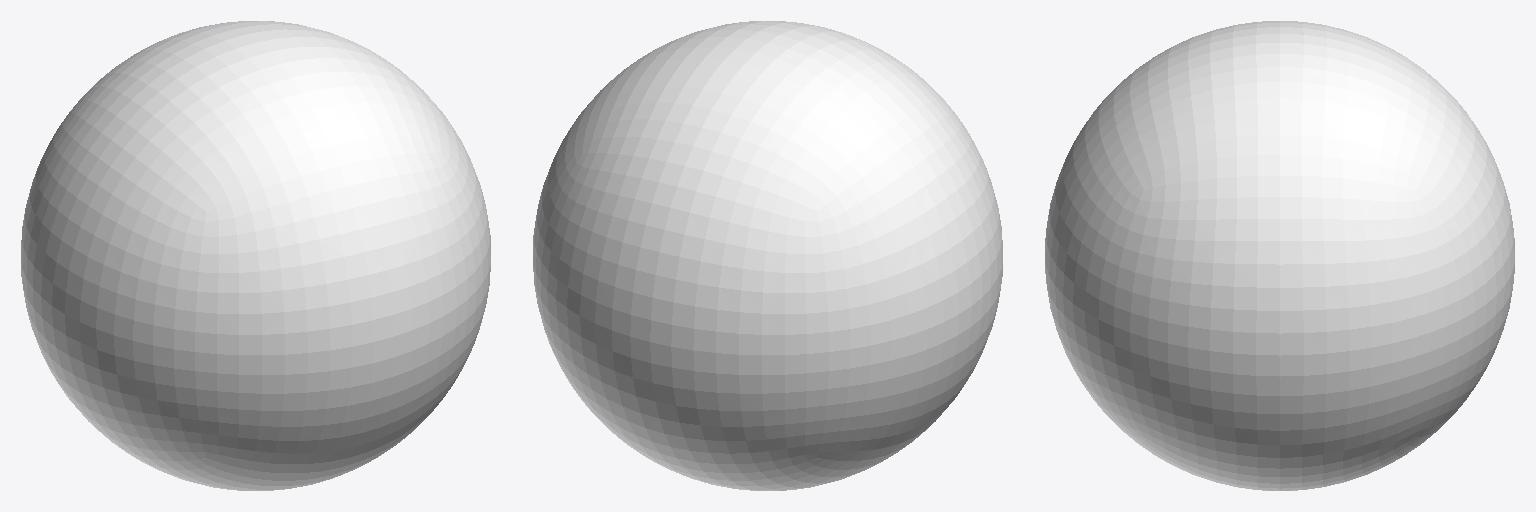
The model's file is sky.obj.
The picture shows the model from 3 angles: view 1: azimuth 30°, elevation 25°; view 2: azimuth 150°, elevation 25°; view 3: azimuth 270°, elevation 25°; orthographic projection.
Visible parts, largest first — view 1: octahedron5; view 2: octahedron5; view 3: octahedron5.
Boxes of the visible parts, x1,y1,x2,y2 form: octahedron5: [21, 21, 490, 490]; octahedron5: [533, 21, 1002, 490]; octahedron5: [1045, 21, 1514, 490].
Size of the model in its own units: 2 by 2 by 2.